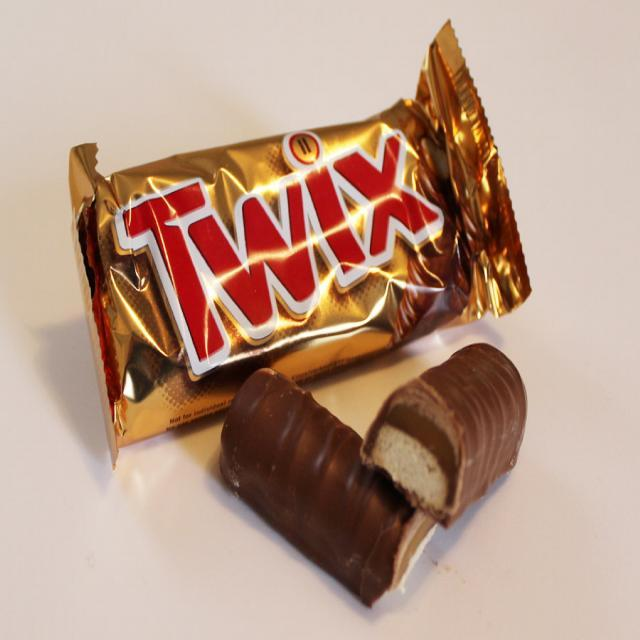Chocolate bar: (69, 15, 536, 471)
Chocolate bar packaged: (219, 368, 449, 618), (366, 343, 526, 531)
